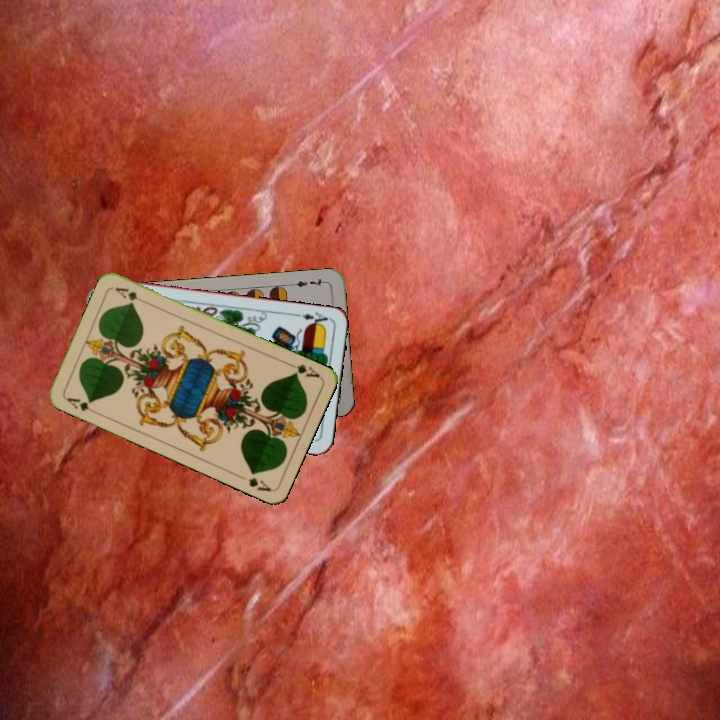E7: (288, 275, 329, 290)
EA: (292, 308, 330, 329)
GA: (61, 394, 100, 416), (283, 359, 322, 380)
